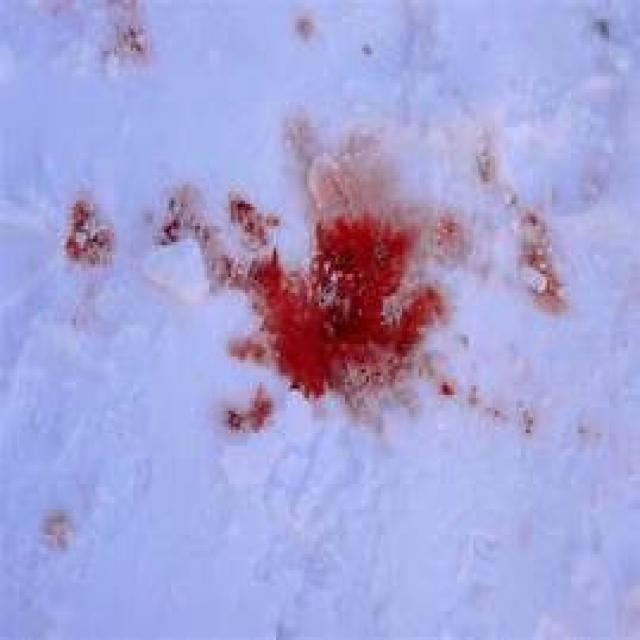wound: (149, 158, 474, 462)
